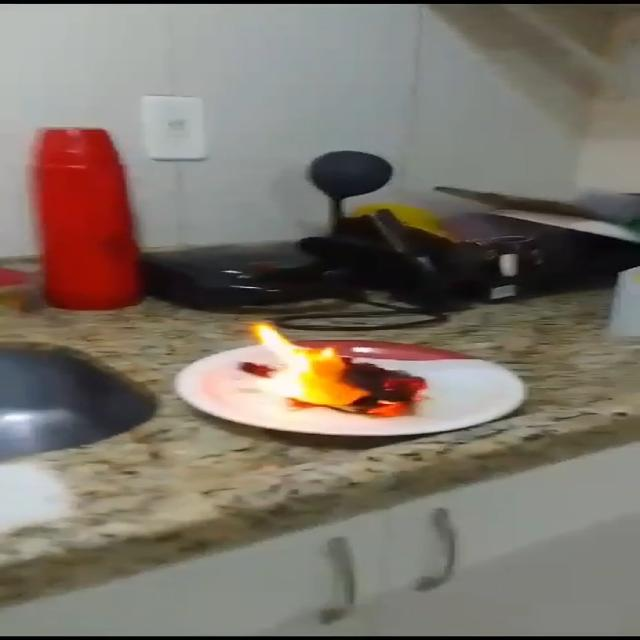fogo-ypXI: (248, 320, 428, 418)
